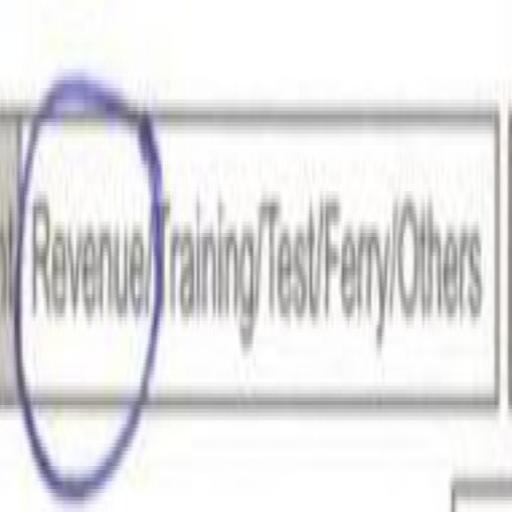check: (24, 2, 151, 497)
